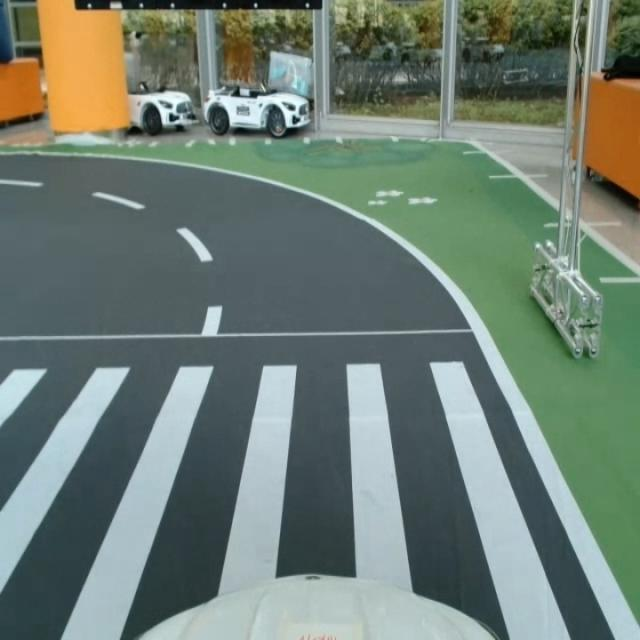traffic-light: (68, 0, 327, 15)
